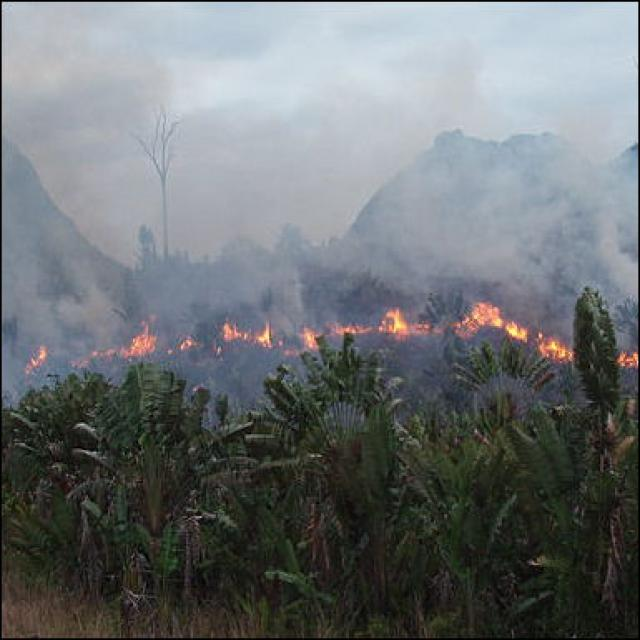Fire: (447, 303, 567, 356), (339, 310, 432, 333), (221, 326, 276, 347), (126, 319, 156, 356), (299, 328, 331, 345), (617, 352, 638, 368)
